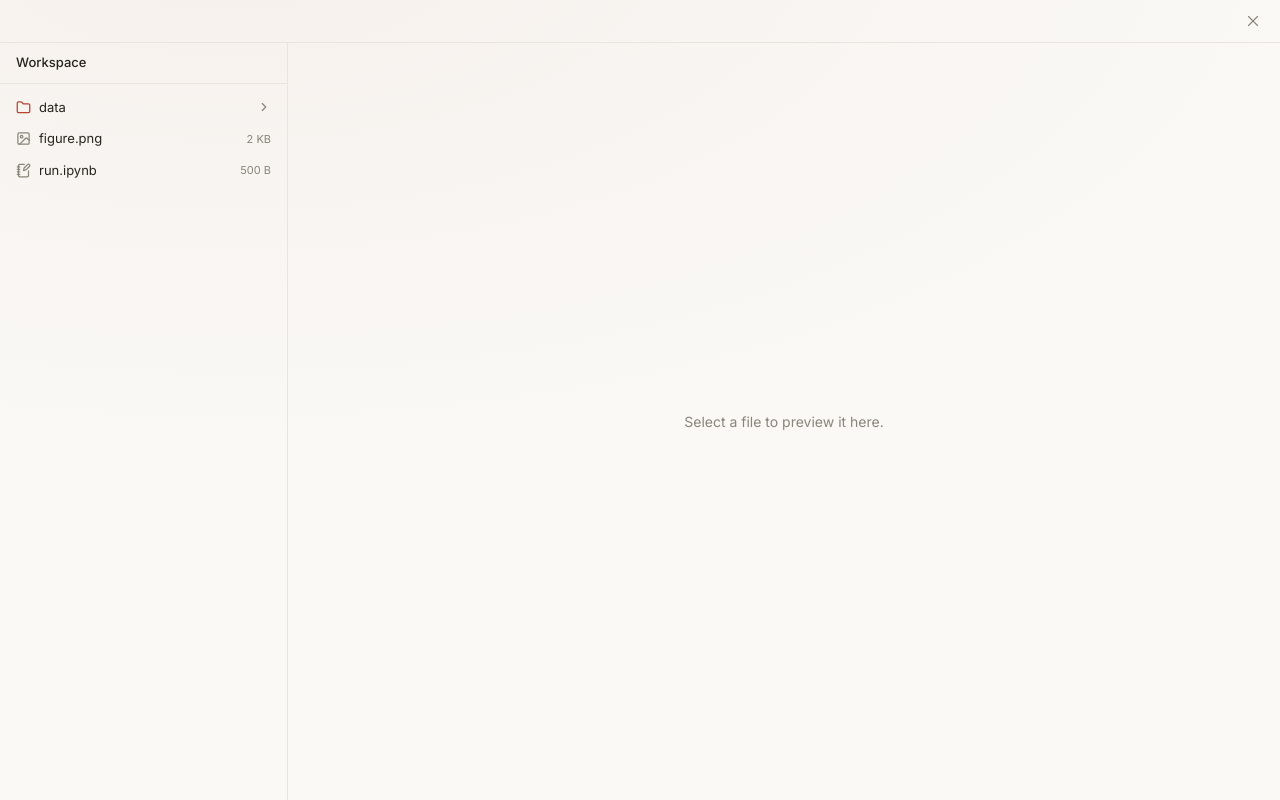
FilesPage › navigates into a folder and back via the breadcrumb
Click the button "data": (24, 107) left=8, top=92, right=279, bottom=123
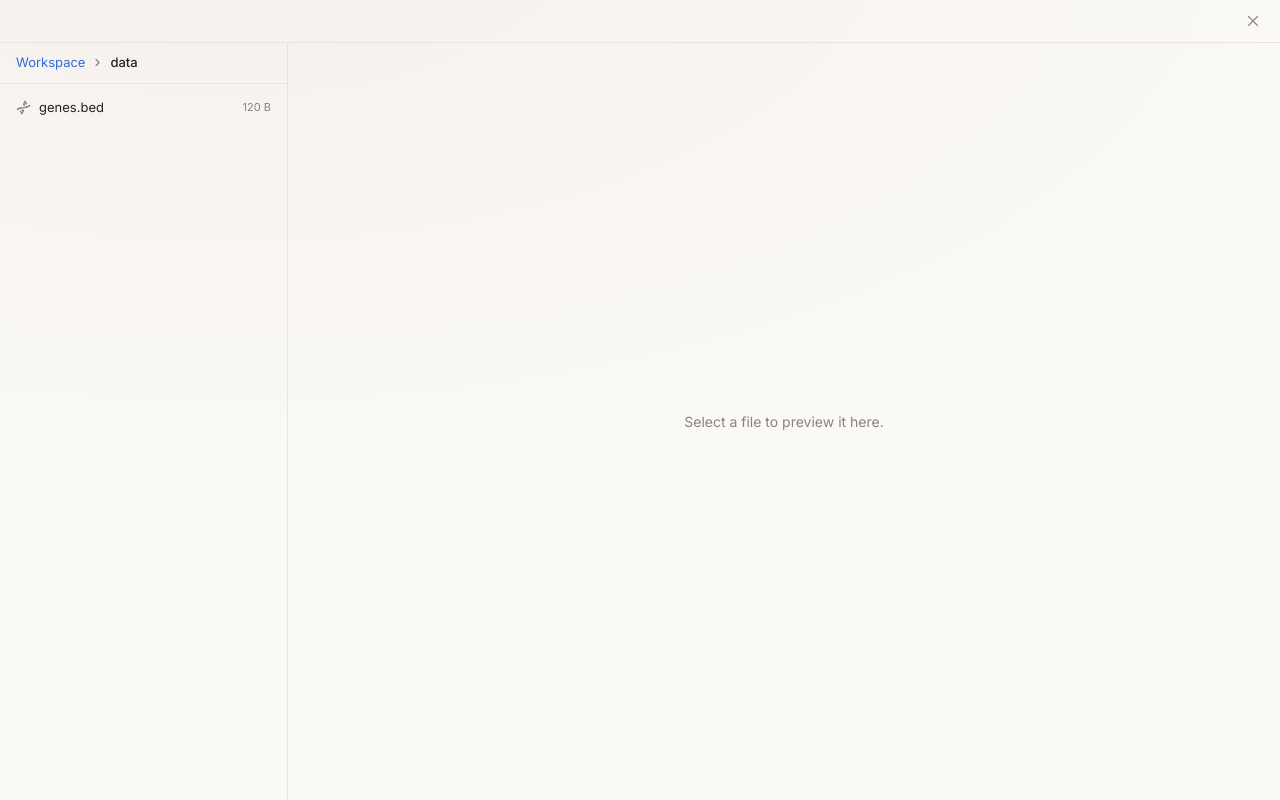
Expected: the text "genes.bed" is shown, left=39, top=98, right=104, bottom=114
Click the button "Workspace": (51, 63) left=12, top=53, right=89, bottom=72
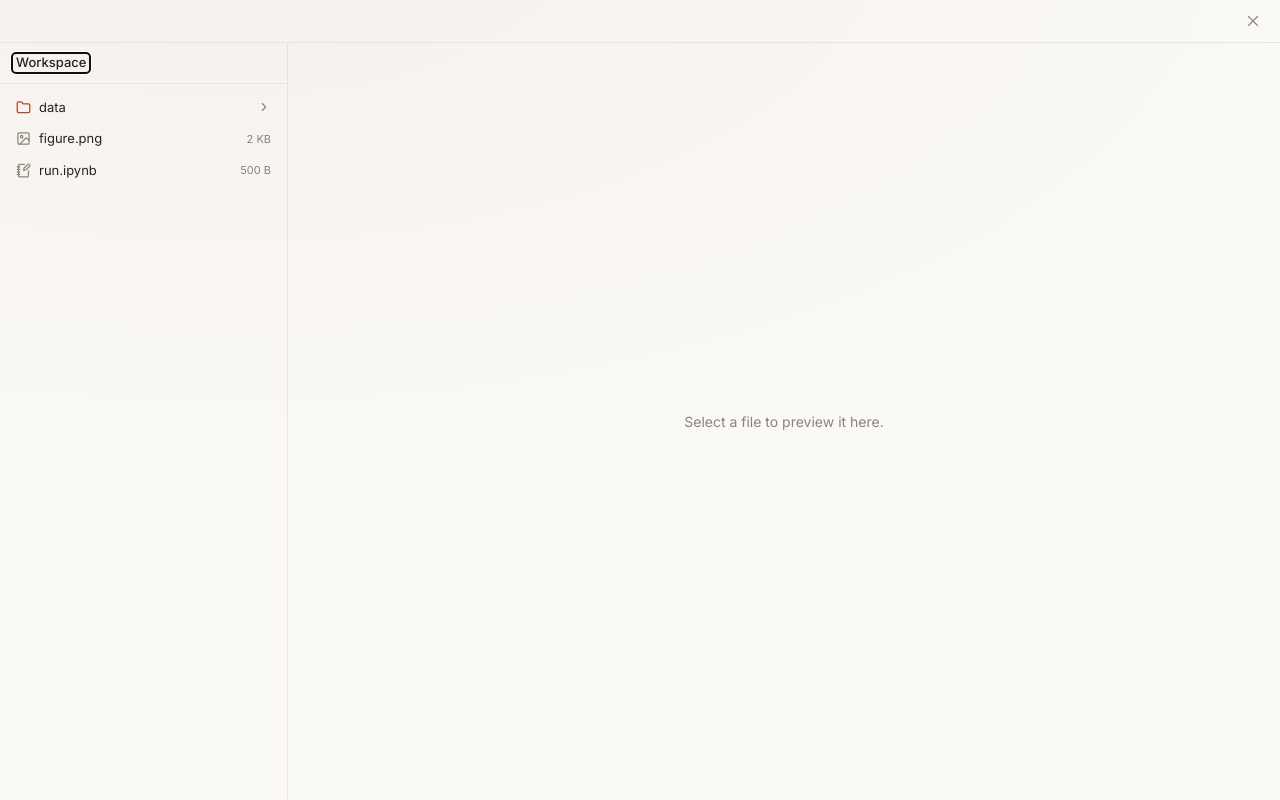
Expected: the text "figure.png" is shown, left=39, top=130, right=102, bottom=146
